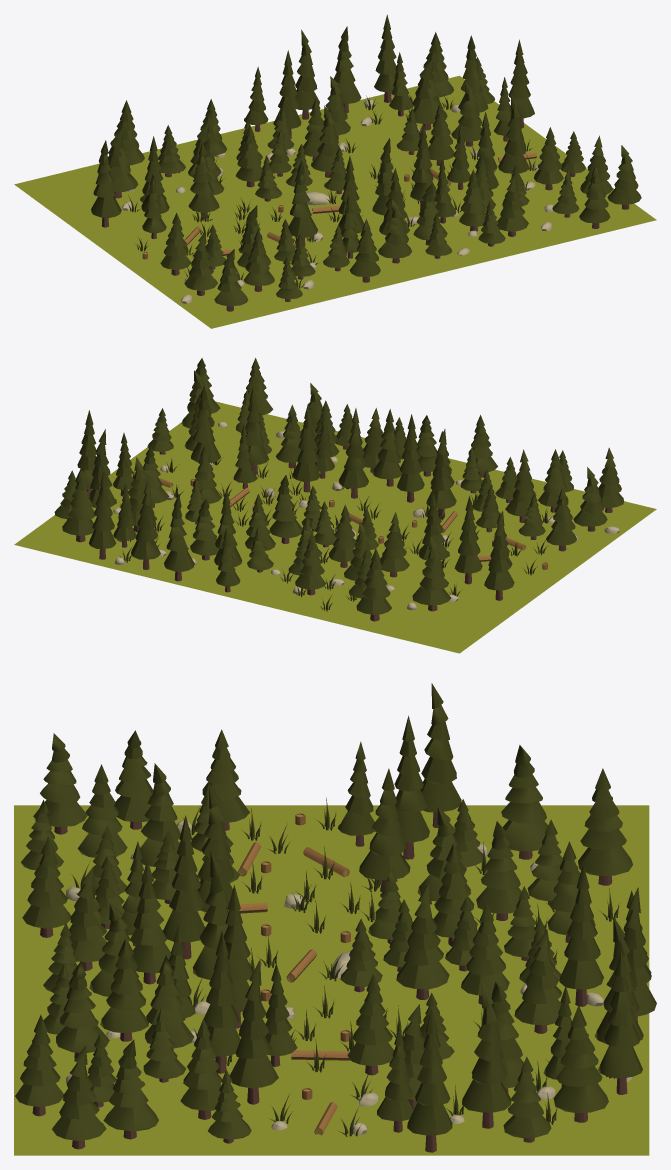
File: low_poly_forest_4_optimized.glb
3 renders of one model, top to bottom at view 1: azimuth 30°, elevation 25°; view 2: azimuth 150°, elevation 25°; view 3: azimuth 270°, elevation 25°, orthographic. The views are drawn at different scales.
Parts seen in each view (by area): view 1: Object_2; view 2: Object_2; view 3: Object_2.
Part boxes in pixels (box(x1,y1,x2,y2)): Object_2: box(14, 14, 656, 328); Object_2: box(14, 358, 656, 653); Object_2: box(14, 683, 656, 1155).
Bounding box in the file's own units: 26.39 × 5.07 × 20.26.
1 material, 1 textured.
